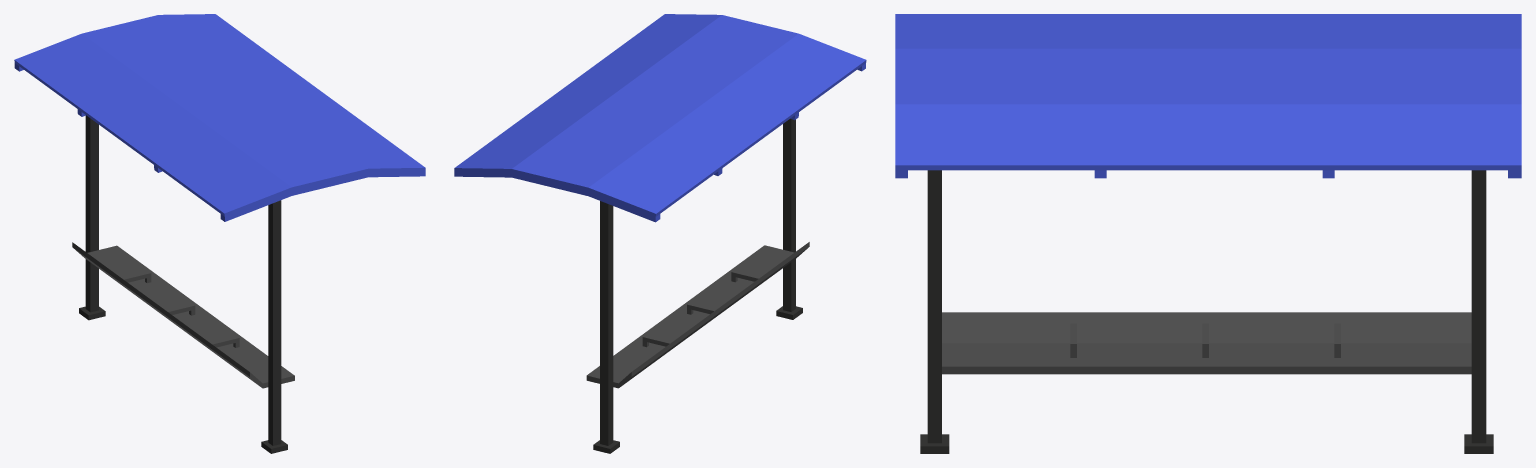
Rendered from Parada de bus.glb.
3 views of the same model, side by side, from view 1: azimuth 30°, elevation 25°; view 2: azimuth 150°, elevation 25°; view 3: azimuth 270°, elevation 25° (orthographic). The views are drawn at different scales.
Parts seen in each view (by area): view 1: Cube.018, Cube.020, Cube.012; view 2: Cube.018, Cube.020, Cube.012; view 3: Cube.018, Cube.020, Cube.012.
Part boxes in pixels (<box>): Cube.018: <box>14,14,425,221</box>; Cube.020: <box>72,242,294,388</box>; Cube.012: <box>79,115,287,453</box>; Cube.018: <box>454,14,866,222</box>; Cube.020: <box>586,242,809,388</box>; Cube.012: <box>593,118,802,453</box>; Cube.018: <box>895,14,1521,178</box>; Cube.020: <box>942,312,1471,374</box>; Cube.012: <box>920,170,1493,453</box>.
Bounding box in the file's own units: 2.18 × 2.79 × 3.93.
